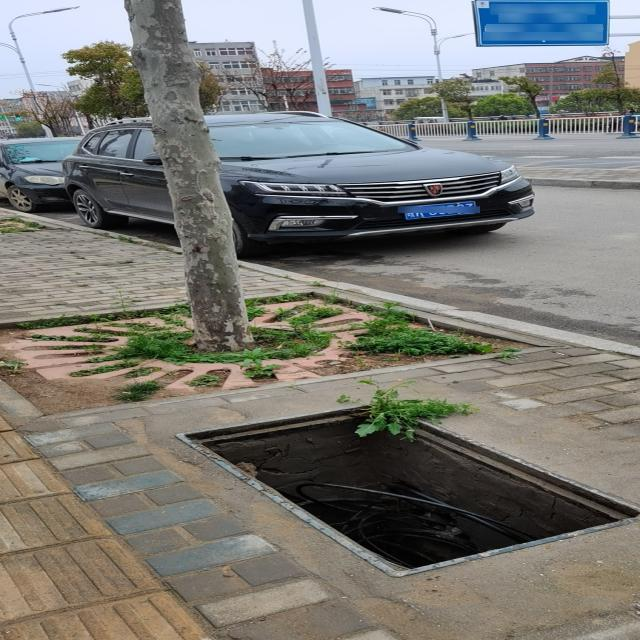Uncovered: (174, 407, 639, 582)
